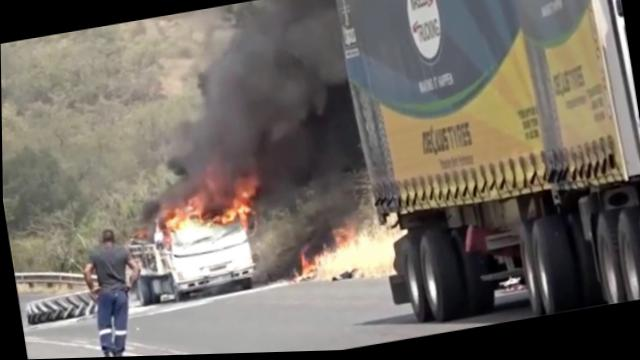fire: (162, 206, 190, 232), (232, 195, 249, 225), (294, 251, 311, 278), (216, 203, 238, 222), (187, 196, 204, 217)
